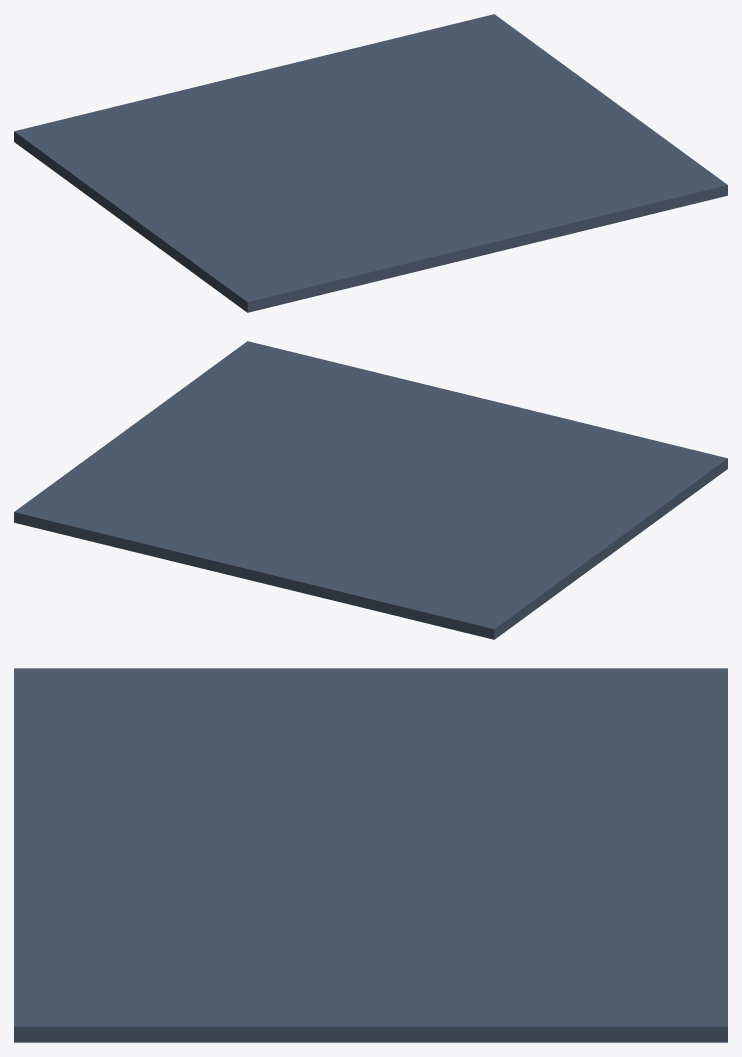
The model's file is floor_007_f_738be8ca0a.obj.
3 views of the same model, one above another, from view 1: azimuth 30°, elevation 25°; view 2: azimuth 150°, elevation 25°; view 3: azimuth 270°, elevation 25° (orthographic). The views are drawn at different scales.
Visible parts, largest first — view 1: Floor_007_f_738be8ca0a; view 2: Floor_007_f_738be8ca0a; view 3: Floor_007_f_738be8ca0a.
Part boxes in pixels (bbox=[...]): Floor_007_f_738be8ca0a: bbox=[14, 14, 727, 312]; Floor_007_f_738be8ca0a: bbox=[14, 341, 727, 639]; Floor_007_f_738be8ca0a: bbox=[14, 668, 727, 1042].
Size of the model in its own units: 9.5 by 0.2 by 8.
